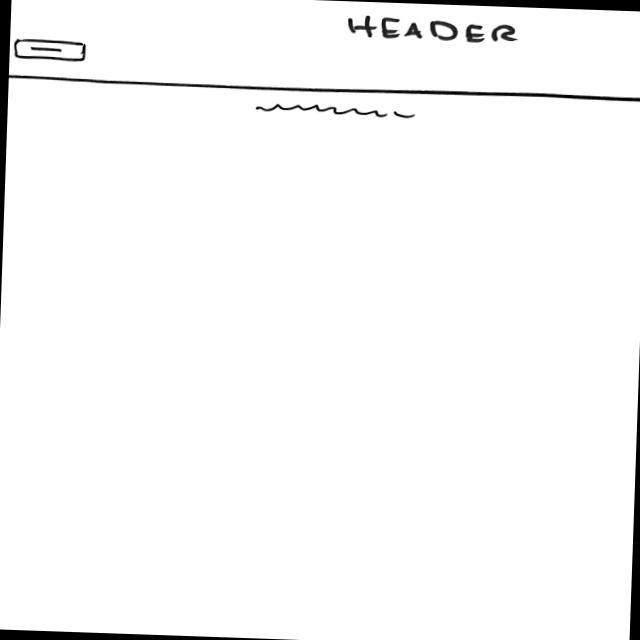icon-button: (12, 38, 89, 65)
label: (348, 14, 521, 47)
text: (253, 101, 421, 122)
